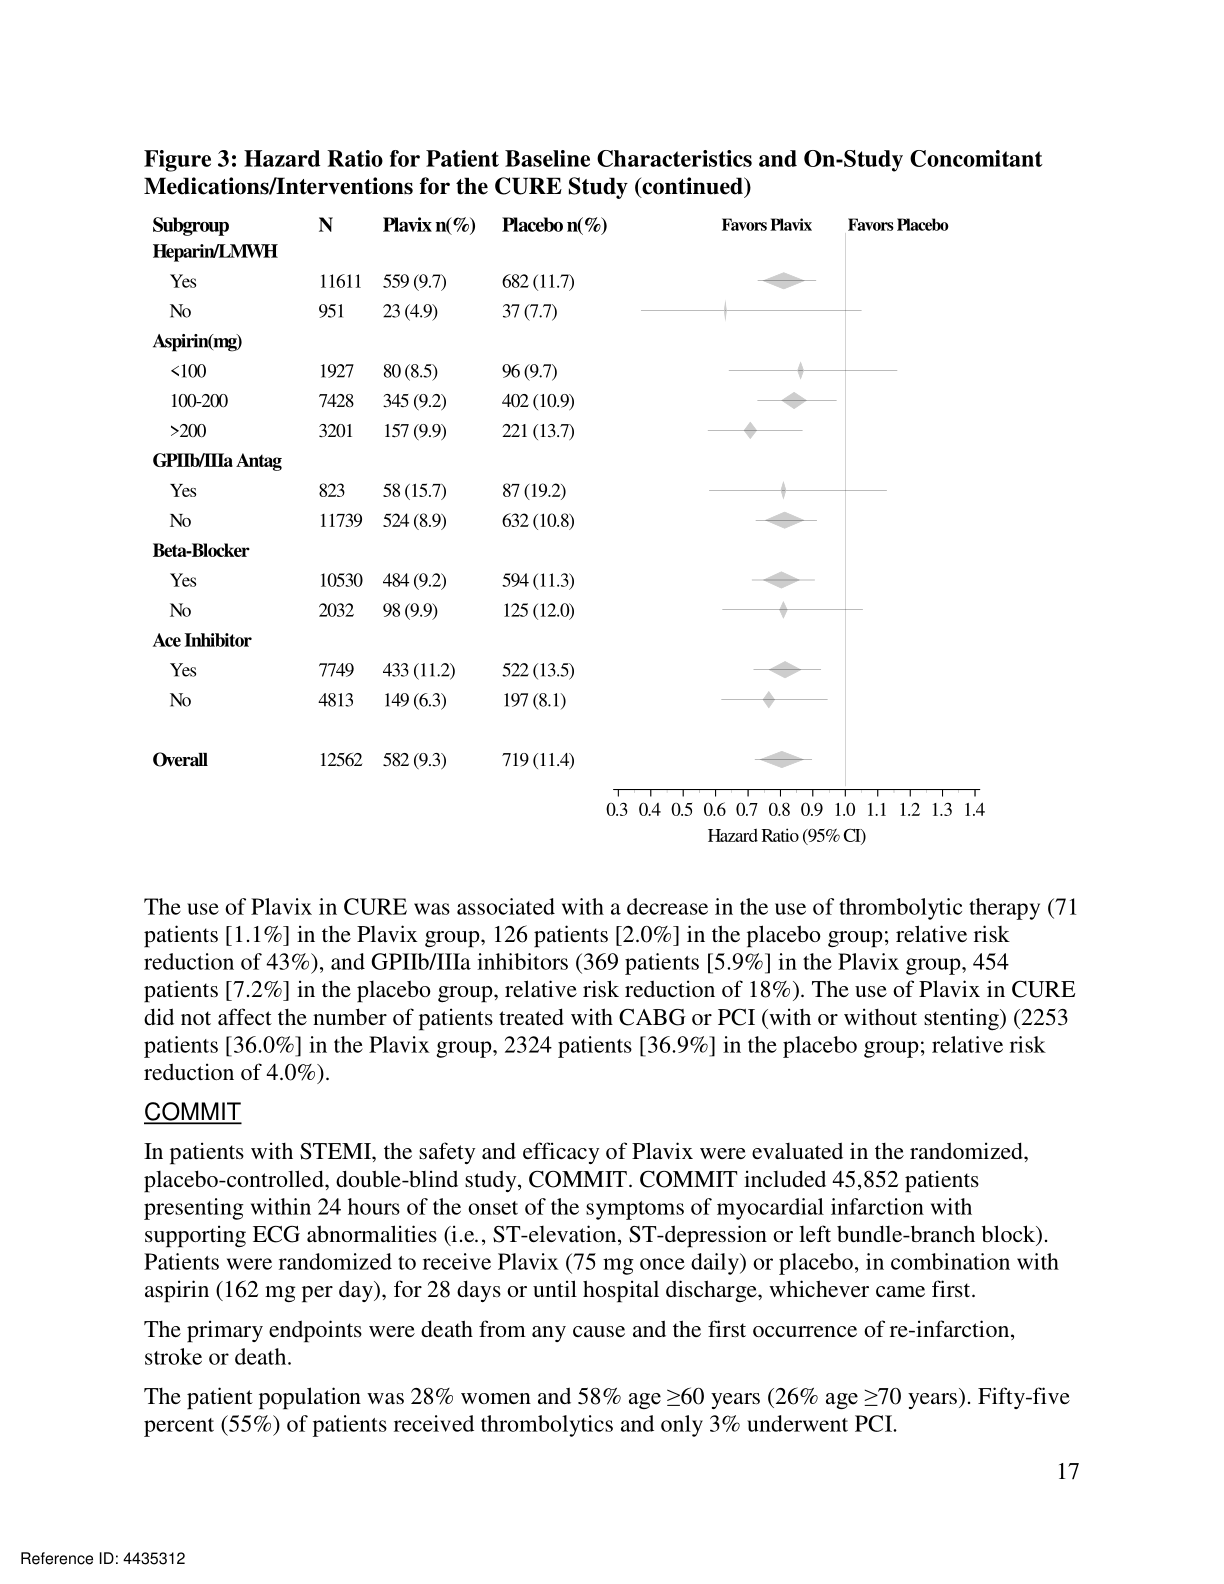nolines: (144, 210, 966, 775)
